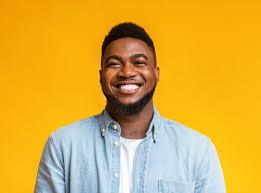person: (94, 16, 172, 116)
